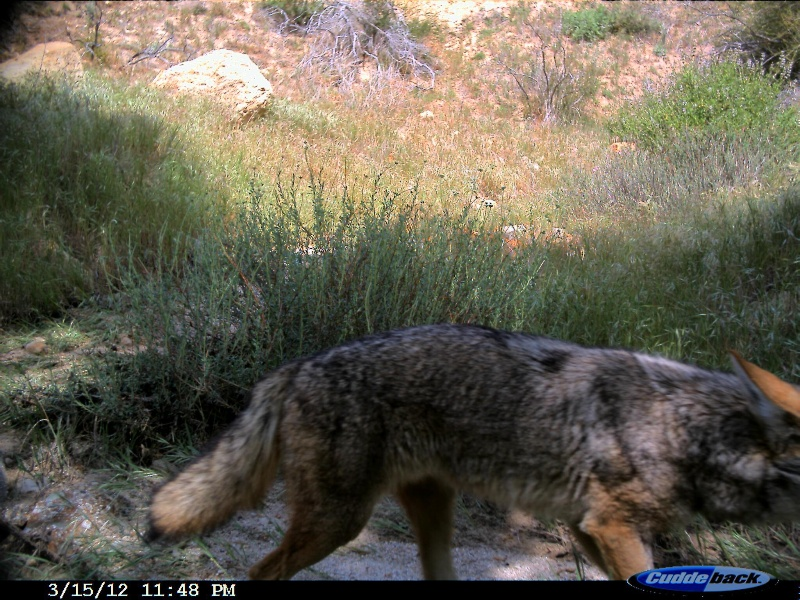coyote: (144, 319, 800, 578)
